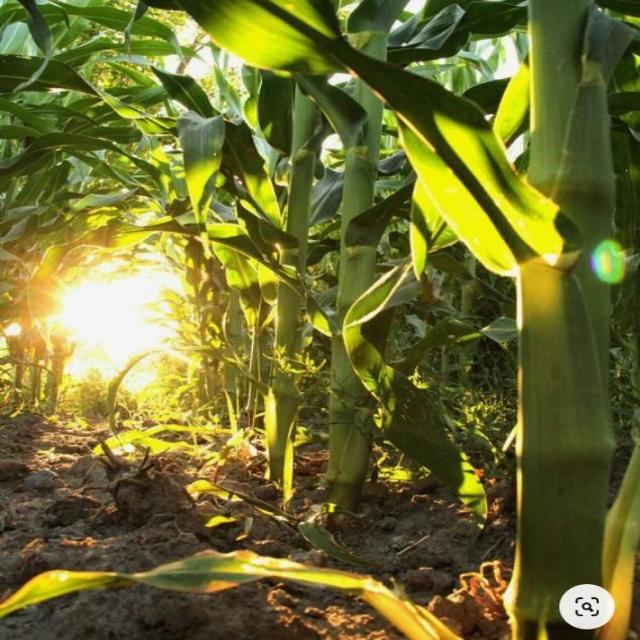row: (0, 391, 491, 640)
